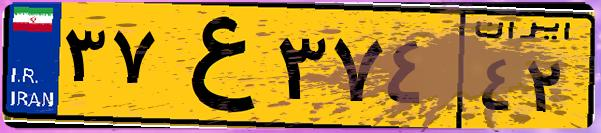2: (525, 38, 570, 115)
3: (270, 28, 330, 110), (57, 26, 110, 100)
4: (385, 28, 445, 110), (475, 38, 525, 113)
7: (330, 28, 385, 110), (110, 28, 158, 98)
ع: (158, 12, 270, 120)
